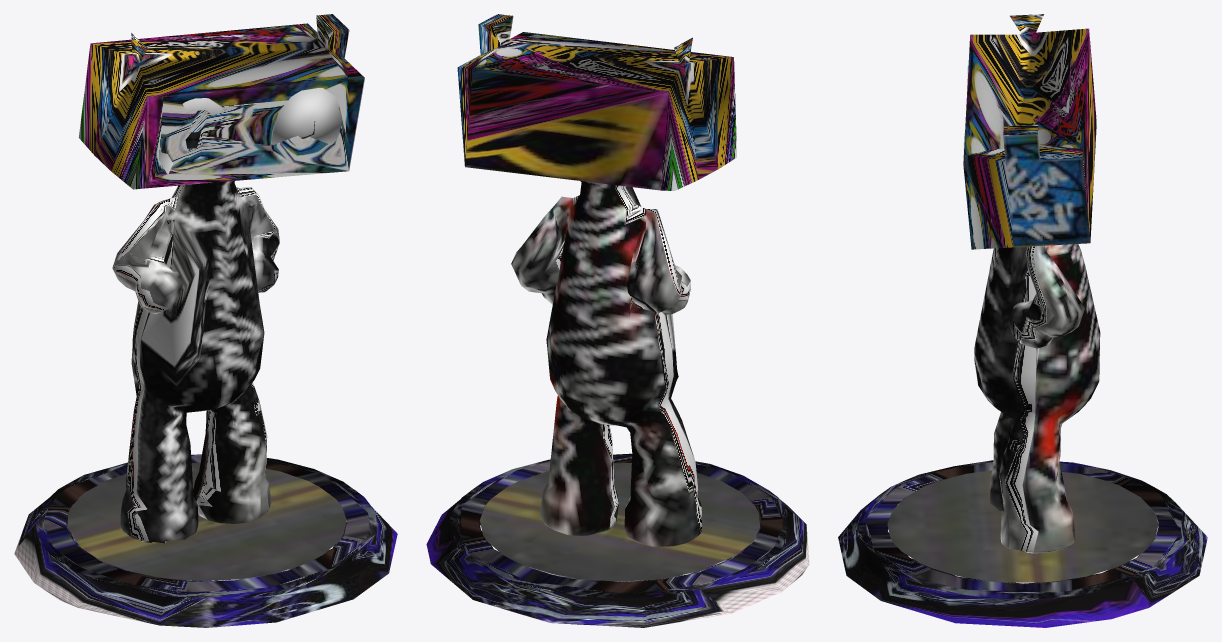
3 renders of one model, left to right at view 1: azimuth 30°, elevation 25°; view 2: azimuth 150°, elevation 25°; view 3: azimuth 270°, elevation 25°, orthographic. The views are drawn at different scales.
Bounding box in the file's own units: 1.44 × 2.16 × 1.43.
6 materials, 4 textured.
